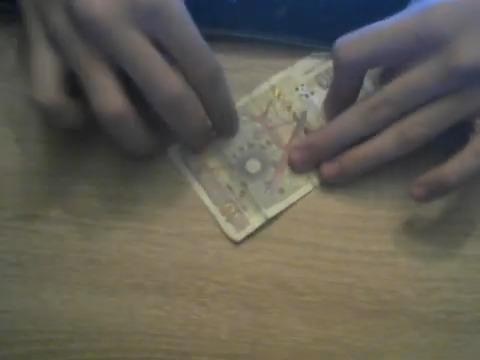10leva: (171, 58, 318, 246)
